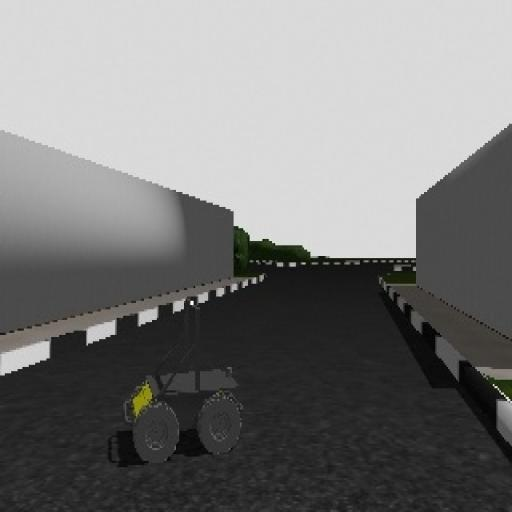huskya200: (108, 289, 248, 471)
